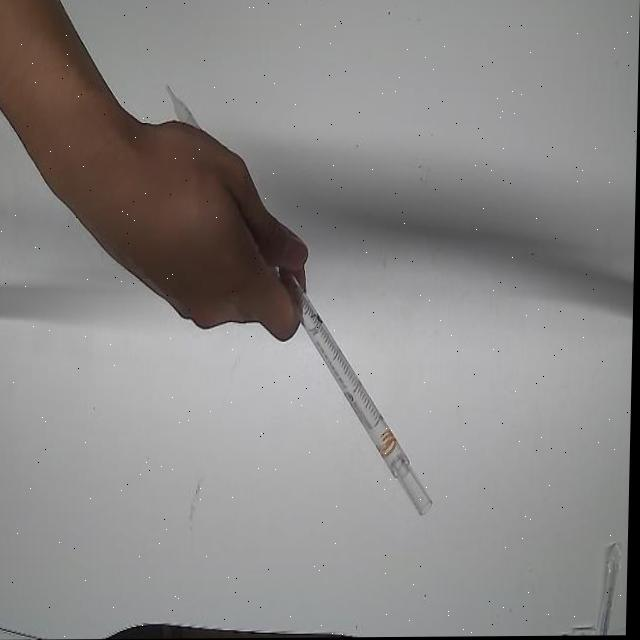Serelogical Pipet 10 mL: (153, 80, 449, 527)
